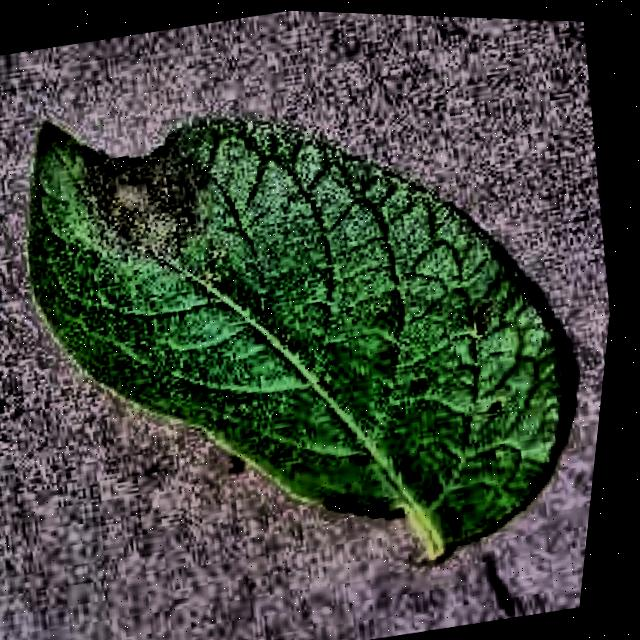Potato_leaf_late_blight: (32, 118, 565, 558)
